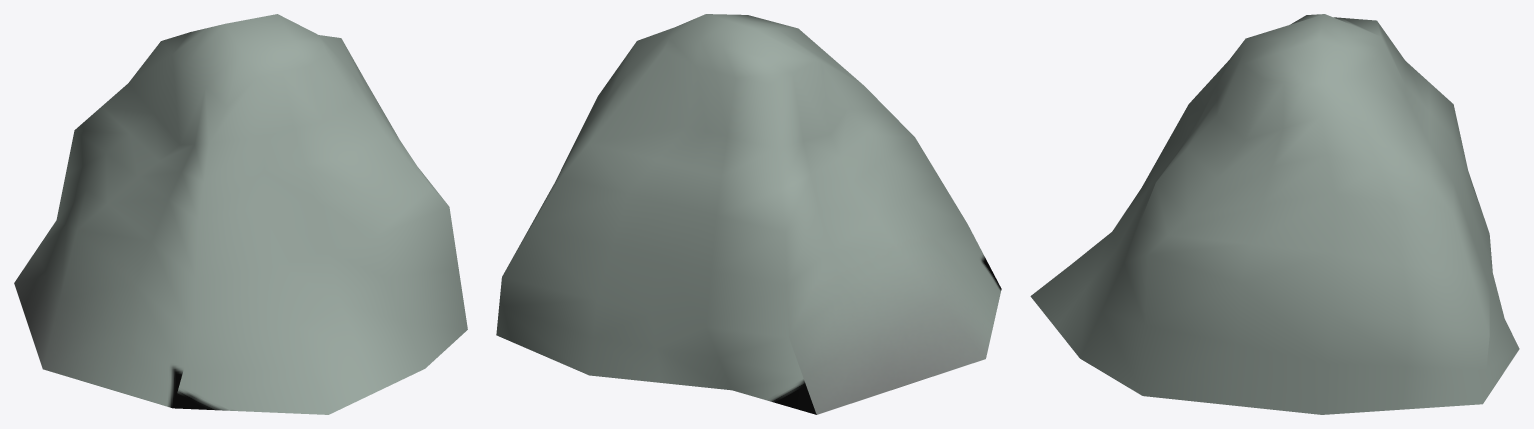
The model's file is Rock_Large_04.fbx.
3 renders of one model, left to right at view 1: azimuth 30°, elevation 25°; view 2: azimuth 150°, elevation 25°; view 3: azimuth 270°, elevation 25°, orthographic. The views are drawn at different scales.
Parts seen in each view (by area): view 1: Rock_Large_04; view 2: Rock_Large_04; view 3: Rock_Large_04.
Part boxes in pixels (box(x1,y1,x2,y2)): Rock_Large_04: box(14, 14, 467, 414); Rock_Large_04: box(496, 14, 1001, 414); Rock_Large_04: box(1030, 14, 1519, 414).
Size of the model in its own units: 1372 by 933 by 1378.
